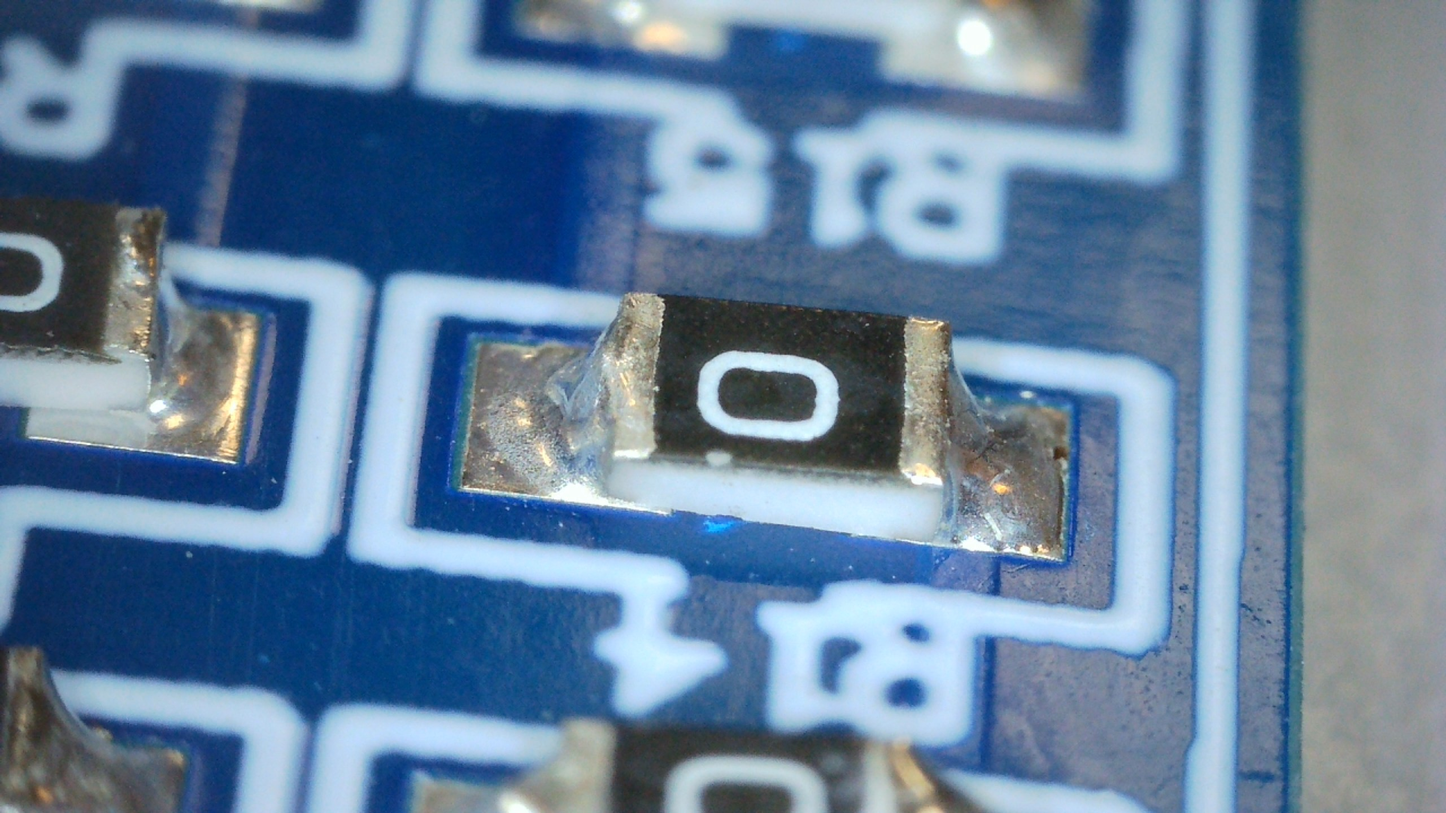NG: (901, 318, 1060, 548), (498, 293, 657, 485)
